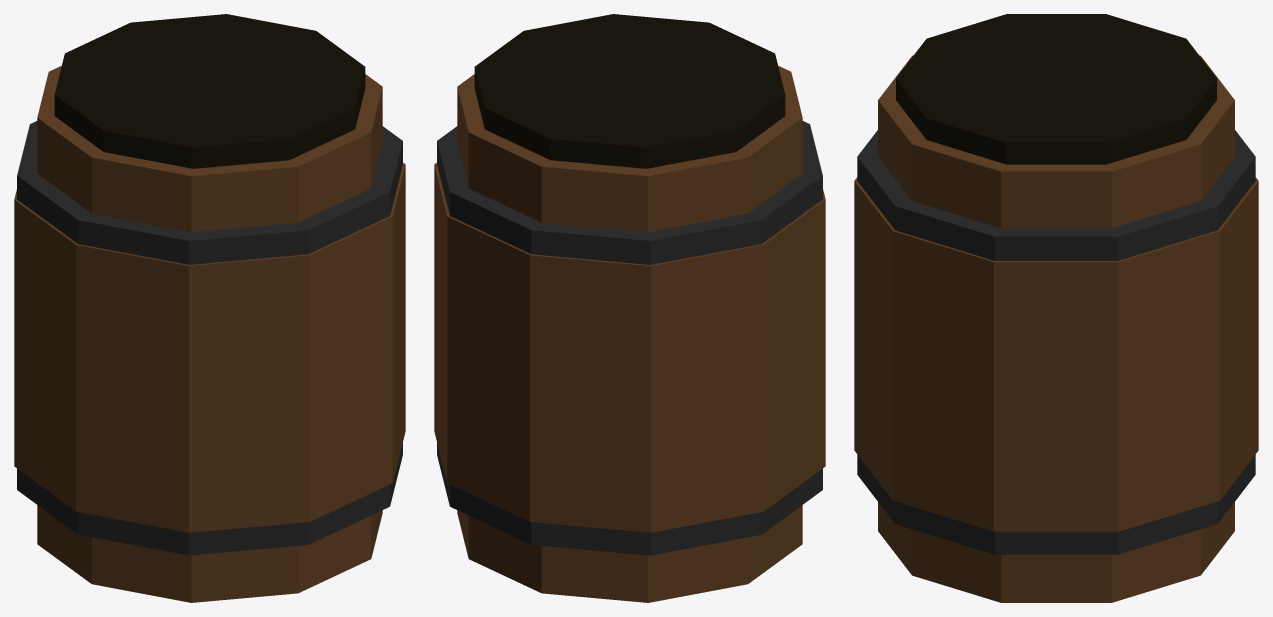
Rendered from barrel_oil.glb.
3 renders of one model, left to right at view 1: azimuth 30°, elevation 25°; view 2: azimuth 150°, elevation 25°; view 3: azimuth 270°, elevation 25°, orthographic.
Visible parts, largest first — view 1: belly, stave, top, band0.66, band0.14; view 2: belly, stave, top, band0.66, band0.14; view 3: belly, stave, top, band0.66, band0.14.
Boxes of the visible parts, x1,y1,x2,y2 form: belly: (14,163,405,532); stave: (37,66,382,602); top: (54,14,365,168); band0.66: (17,121,402,264); band0.14: (17,443,402,555); belly: (434,163,825,532); stave: (457,66,802,602); top: (474,14,785,168); band0.66: (437,121,822,264); band0.14: (437,443,822,555); belly: (854,177,1258,531); stave: (878,55,1234,602); top: (896,14,1216,164); band0.66: (857,130,1255,260); band0.14: (857,455,1255,554).
Bounding box in the file's own units: 0.6467 × 0.84 × 0.68.
